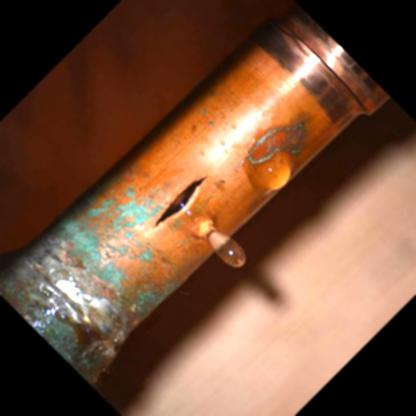burst: (144, 175, 225, 241)
